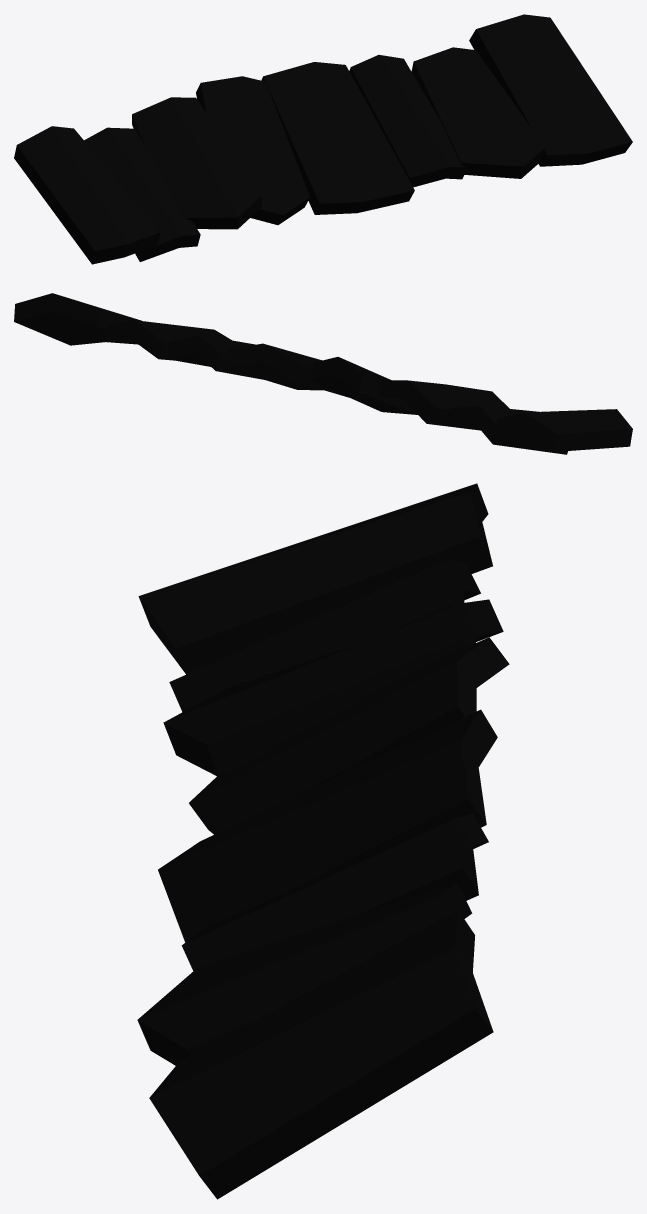
Rendered from Roof 03 Finish Bottom.fbx.
The picture shows the model from 3 angles, top to bottom: view 1: azimuth 30°, elevation 25°; view 2: azimuth 150°, elevation 25°; view 3: azimuth 270°, elevation 25°; orthographic projection. The views are drawn at different scales.
Parts seen in each view (by area): view 1: Roof 03 Finish Bottom; view 2: Roof 03 Finish Bottom; view 3: Roof 03 Finish Bottom.
Boxes of the visible parts, x1,y1,x2,y2 form: Roof 03 Finish Bottom: (14, 14, 632, 264); Roof 03 Finish Bottom: (14, 293, 632, 454); Roof 03 Finish Bottom: (137, 483, 509, 1199).
Size of the model in its own units: 422 by 82.46 by 125.
